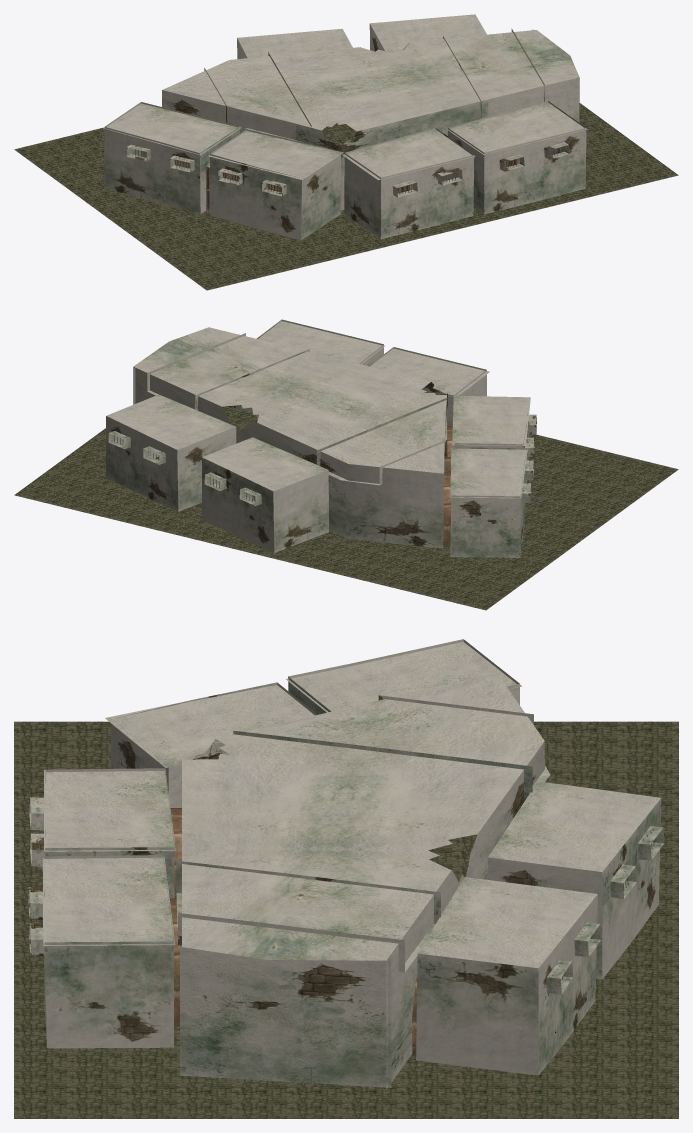
The model's file is pir_m_int_spn_jail_destroyed.fbx.
3 views of the same model, one above another, from view 1: azimuth 30°, elevation 25°; view 2: azimuth 150°, elevation 25°; view 3: azimuth 270°, elevation 25° (orthographic). The views are drawn at different scales.
Parts seen in each view (by area): view 1: ceiling_main, floor, walls, pasted__pPlane76, pasted__pPlane74, pasted__pPlane81, pasted__pPlane68, ceiling80, ceiling77, ceiling78, ceiling79, ceiling75 (+1 smaller); view 2: floor, ceiling_main, walls, pasted__pPlane82, pasted__pPlane83, pasted__pPlane68, ceiling78, ceiling77, ceiling75, ceiling74, ceiling79, ceiling80 (+5 smaller); view 3: floor, ceiling_main, stair_structure, pasted__pPlane83, pasted__pPlane81, ceiling80, ceiling75, ceiling79, ceiling74, ceiling78, pasted__pPlane82, ceiling77 (+9 smaller).
Boxes of the visible parts, <box> form: ceiling_main: <box>162,30,579,131</box>; floor: <box>14,103,678,290</box>; walls: <box>162,42,579,210</box>; pasted__pPlane76: <box>344,128,474,239</box>; pasted__pPlane74: <box>210,129,340,240</box>; pasted__pPlane81: <box>448,100,586,214</box>; pasted__pPlane68: <box>104,102,239,213</box>; ceiling80: <box>447,102,587,154</box>; ceiling77: <box>103,103,240,155</box>; ceiling78: <box>208,131,343,179</box>; ceiling79: <box>342,129,475,180</box>; ceiling75: <box>370,14,486,52</box>; floor: <box>14,406,678,610</box>; ceiling_main: <box>133,327,446,473</box>; walls: <box>133,367,447,548</box>; pasted__pPlane82: <box>202,457,328,552</box>; pasted__pPlane83: <box>106,416,236,511</box>; pasted__pPlane68: <box>450,447,526,557</box>; ceiling78: <box>452,395,530,445</box>; ceiling77: <box>450,448,527,498</box>; ceiling75: <box>106,394,235,449</box>; ceiling74: <box>202,437,328,491</box>; ceiling79: <box>370,348,489,397</box>; ceiling80: <box>258,321,384,364</box>; floor: <box>14,721,678,1118</box>; ceiling_main: <box>182,672,544,960</box>; stair_structure: <box>180,946,391,1087</box>; pasted__pPlane83: <box>416,894,597,1075</box>; pasted__pPlane81: <box>44,855,173,1048</box>; ceiling80: <box>42,856,175,945</box>; ceiling75: <box>417,877,597,968</box>; ceiling79: <box>44,769,175,851</box>; ceiling74: <box>488,781,660,871</box>; ceiling78: <box>105,685,314,767</box>; pasted__pPlane82: <box>487,798,661,979</box>; ceiling77: <box>286,642,521,712</box>.
Bounding box in the file's own units: 13278 × 2117 × 9394.
Materials: 4 (4 with a texture image).
